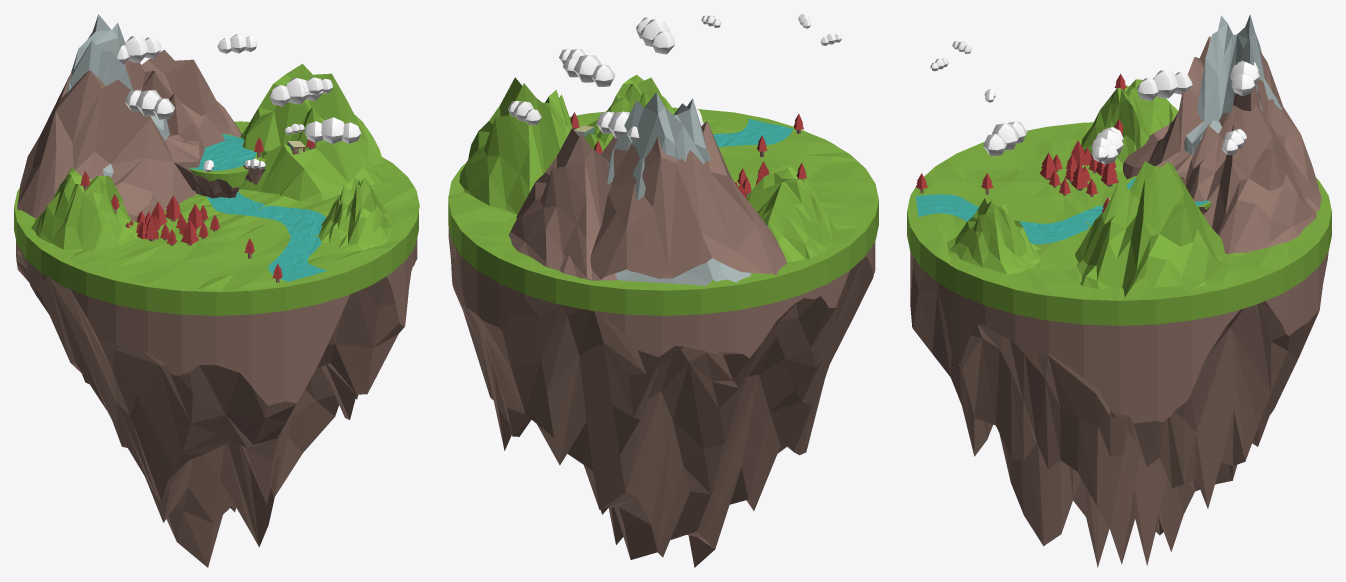
The picture shows the model from 3 angles, left to right: view 1: azimuth 30°, elevation 25°; view 2: azimuth 150°, elevation 25°; view 3: azimuth 270°, elevation 25°; orthographic projection. The views are drawn at different scales.
Parts seen in each view (by area): view 1: Landscape (×4), Cylinder.1 (×2), Landscape.6, Cylinder, Landscape.2, Landscape.4 (×2), smallmount2, thirdmountbig, Landscape.5, Cloud.8, Cloud.3, Cloud.4 (+2 smaller); view 2: Landscape (×2), Landscape.6, Cylinder, Cylinder.1, thirdmountbig, Landscape.2, Landscape.5, smallmount2, Landscape.4 (×2), Cloud.2, Cloud.8, Cloud.4 (+1 smaller); view 3: Landscape (×2), Cylinder.1, Landscape.2, thirdmountbig, Cylinder, Landscape.4 (×2), Landscape.6, Landscape.5, smallmount2, Cloud.3, Cloud.8, Cloud.4 (+1 smaller).
Boxes of the visible parts, x1,y1,x2,y2 form: Landscape (×4): [16, 121, 419, 567]; Cylinder.1 (×2): [16, 133, 417, 405]; Landscape.6: [17, 60, 204, 221]; Cylinder: [14, 188, 418, 315]; Landscape.2: [239, 64, 383, 201]; Landscape.4 (×2): [206, 178, 395, 281]; smallmount2: [31, 167, 138, 251]; thirdmountbig: [141, 50, 241, 147]; Landscape.5: [67, 14, 169, 177]; Cloud.8: [304, 117, 361, 143]; Cloud.3: [124, 90, 174, 119]; Cloud.4: [117, 36, 161, 64]; Landscape (×2): [448, 107, 874, 567]; Landscape.6: [559, 121, 786, 280]; Cylinder: [448, 147, 878, 315]; Cylinder.1: [448, 228, 875, 358]; thirdmountbig: [509, 128, 617, 280]; Landscape.2: [459, 77, 597, 214]; Landscape.5: [601, 92, 751, 286]; smallmount2: [746, 166, 839, 262]; Landscape.4 (×2): [586, 74, 793, 147]; Cloud.2: [562, 55, 615, 86]; Cloud.8: [636, 17, 675, 54]; Cloud.4: [596, 111, 639, 142]; Landscape (×2): [908, 123, 1328, 567]; Cylinder.1: [910, 252, 1328, 423]; Landscape.2: [1075, 161, 1224, 297]; thirdmountbig: [1185, 105, 1321, 254]; Cylinder: [907, 122, 1331, 325]; Landscape.4 (×2): [915, 194, 1103, 274]; Landscape.6: [1123, 36, 1320, 211]; Landscape.5: [1184, 14, 1282, 154]; smallmount2: [1081, 79, 1178, 171]; Cloud.3: [1137, 70, 1192, 100]; Cloud.8: [983, 121, 1027, 156]; Cloud.4: [1229, 60, 1259, 95].
Bounding box in the file's own units: 3612 × 5007 × 3603.
